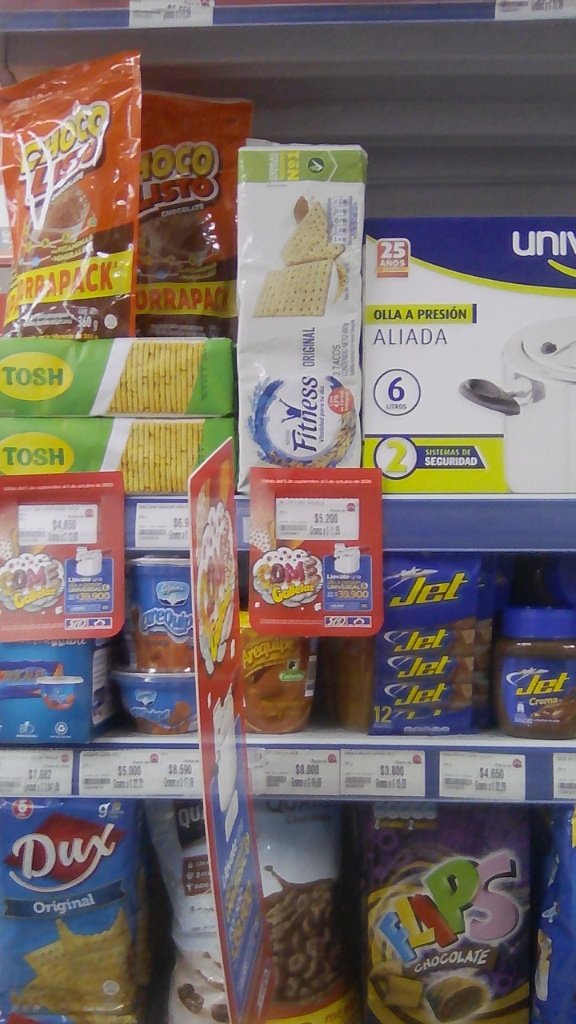COL0170103DYP36000: (134, 85, 243, 338)
